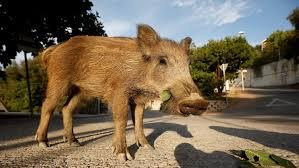wildboar: (34, 22, 210, 163)
